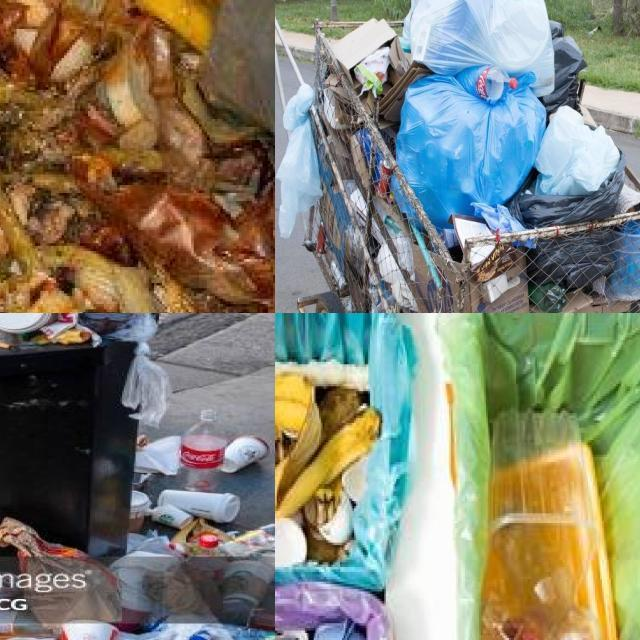Disposable: (159, 490, 241, 523), (0, 313, 53, 333), (150, 504, 193, 528), (61, 622, 118, 640)
Garbage: (277, 0, 640, 313), (275, 349, 635, 640), (0, 490, 275, 640), (134, 411, 271, 486)
Plastic: (481, 413, 617, 640)
Plastic_Bag: (396, 74, 546, 229), (404, 0, 554, 96), (510, 152, 625, 228), (534, 106, 620, 196), (277, 84, 322, 238), (528, 229, 613, 289), (354, 47, 390, 96)
Plastic_Container: (606, 221, 640, 300)
Plastic_bottle: (180, 410, 227, 490), (540, 36, 586, 114), (456, 65, 518, 104), (529, 284, 566, 313)
can: (376, 161, 392, 198)
contaminated_waste: (477, 409, 617, 640)
top_view_waste: (439, 313, 640, 640), (275, 313, 415, 589)
